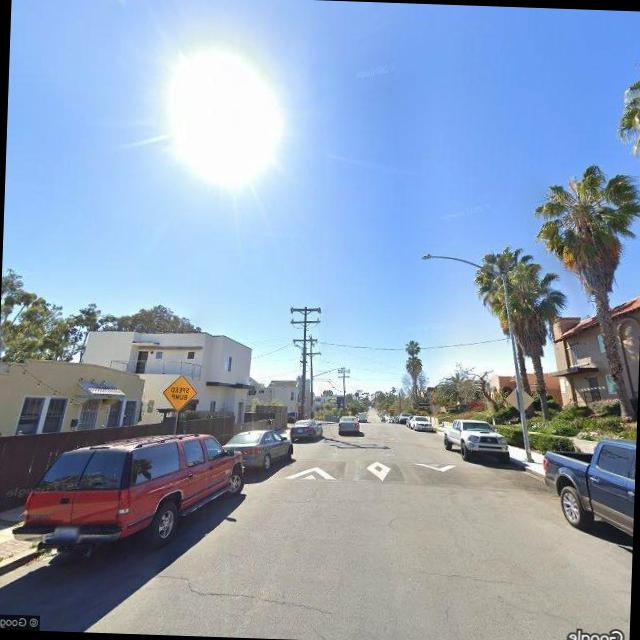crack: (165, 573, 340, 617)
